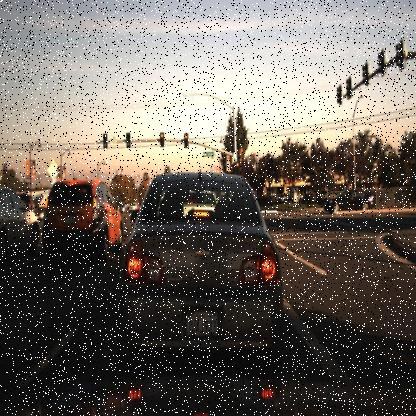car: (113, 160, 305, 394), (35, 166, 125, 278), (43, 177, 124, 260), (0, 178, 44, 265), (320, 183, 376, 218), (8, 185, 49, 222)
trafficLight: (124, 130, 132, 152)
trafficLight-Green: (100, 128, 110, 154)
trafficLight-GreenLeft: (102, 129, 110, 150)
trafficLight-Red: (178, 127, 192, 158), (233, 160, 241, 185), (157, 128, 165, 152), (159, 129, 167, 148), (234, 160, 242, 178), (182, 132, 189, 152)
